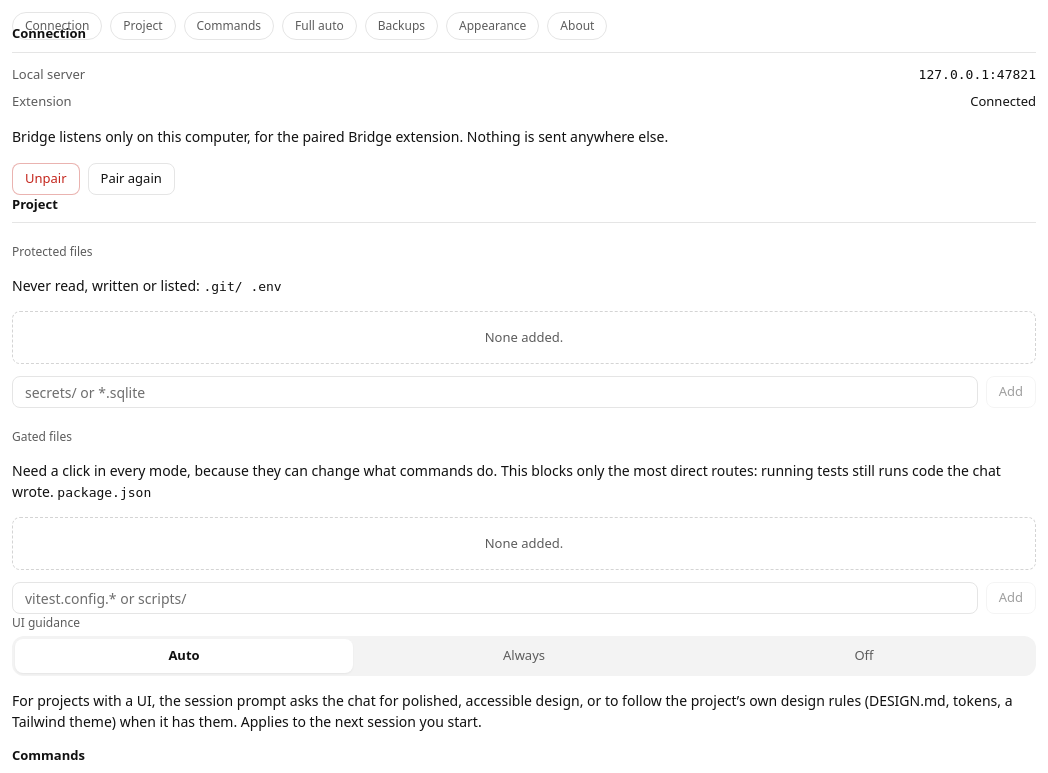
Test: Settings forms › adds a protected pattern and says when one is invalid
This screenshot has width=1048, height=773.
Type "!keep" into the field named "Add to protected files" at (495, 392), box x1=12 y1=376 x2=978 y2=408
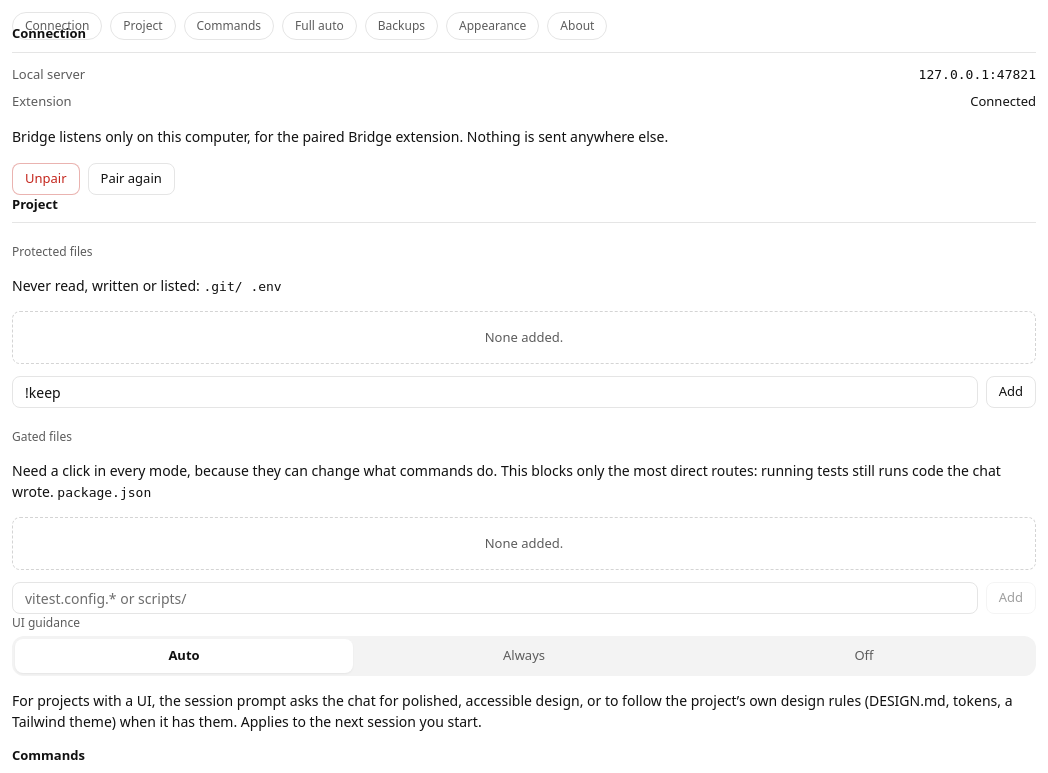
Submit the form named "Add to protected files", box x1=12 y1=376 x2=1036 y2=408
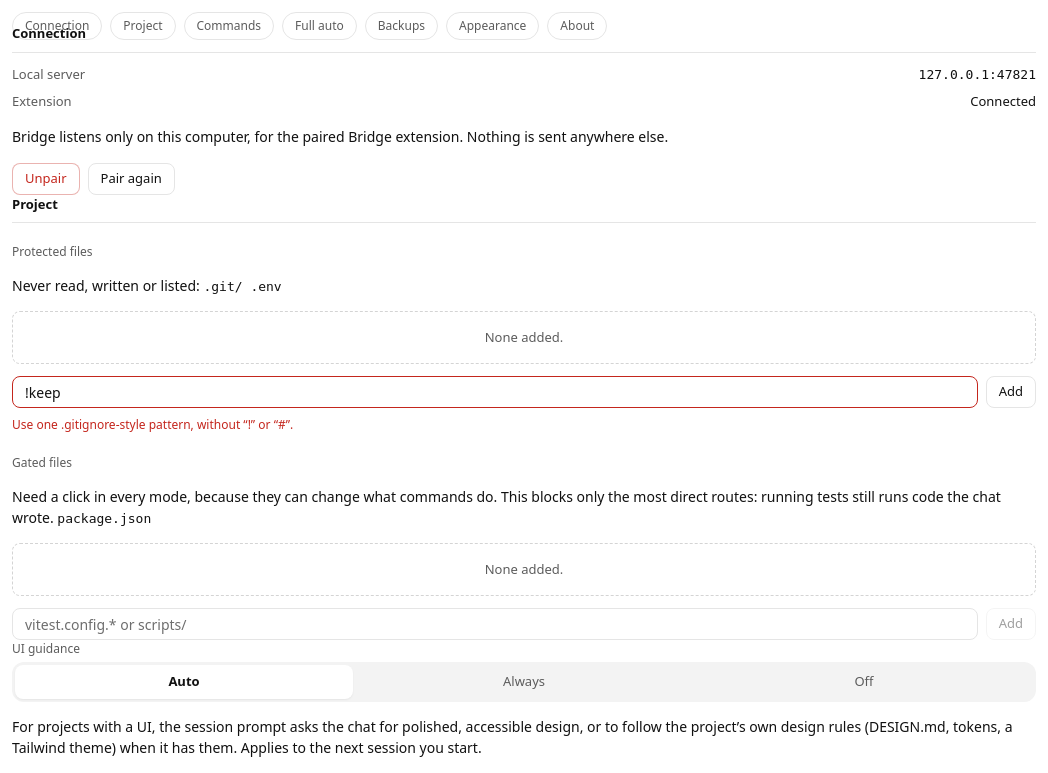
Result: the text "Use one .gitignore-style pattern, without “!” or “#”." is shown at x1=12 y1=416 x2=293 y2=433
